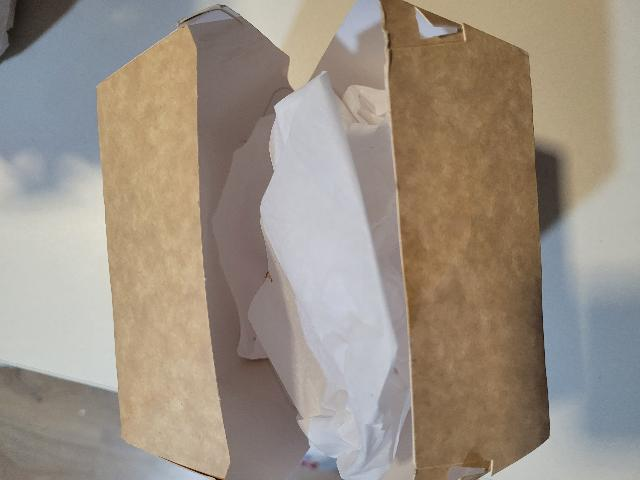Kagit: (99, 7, 547, 480)
